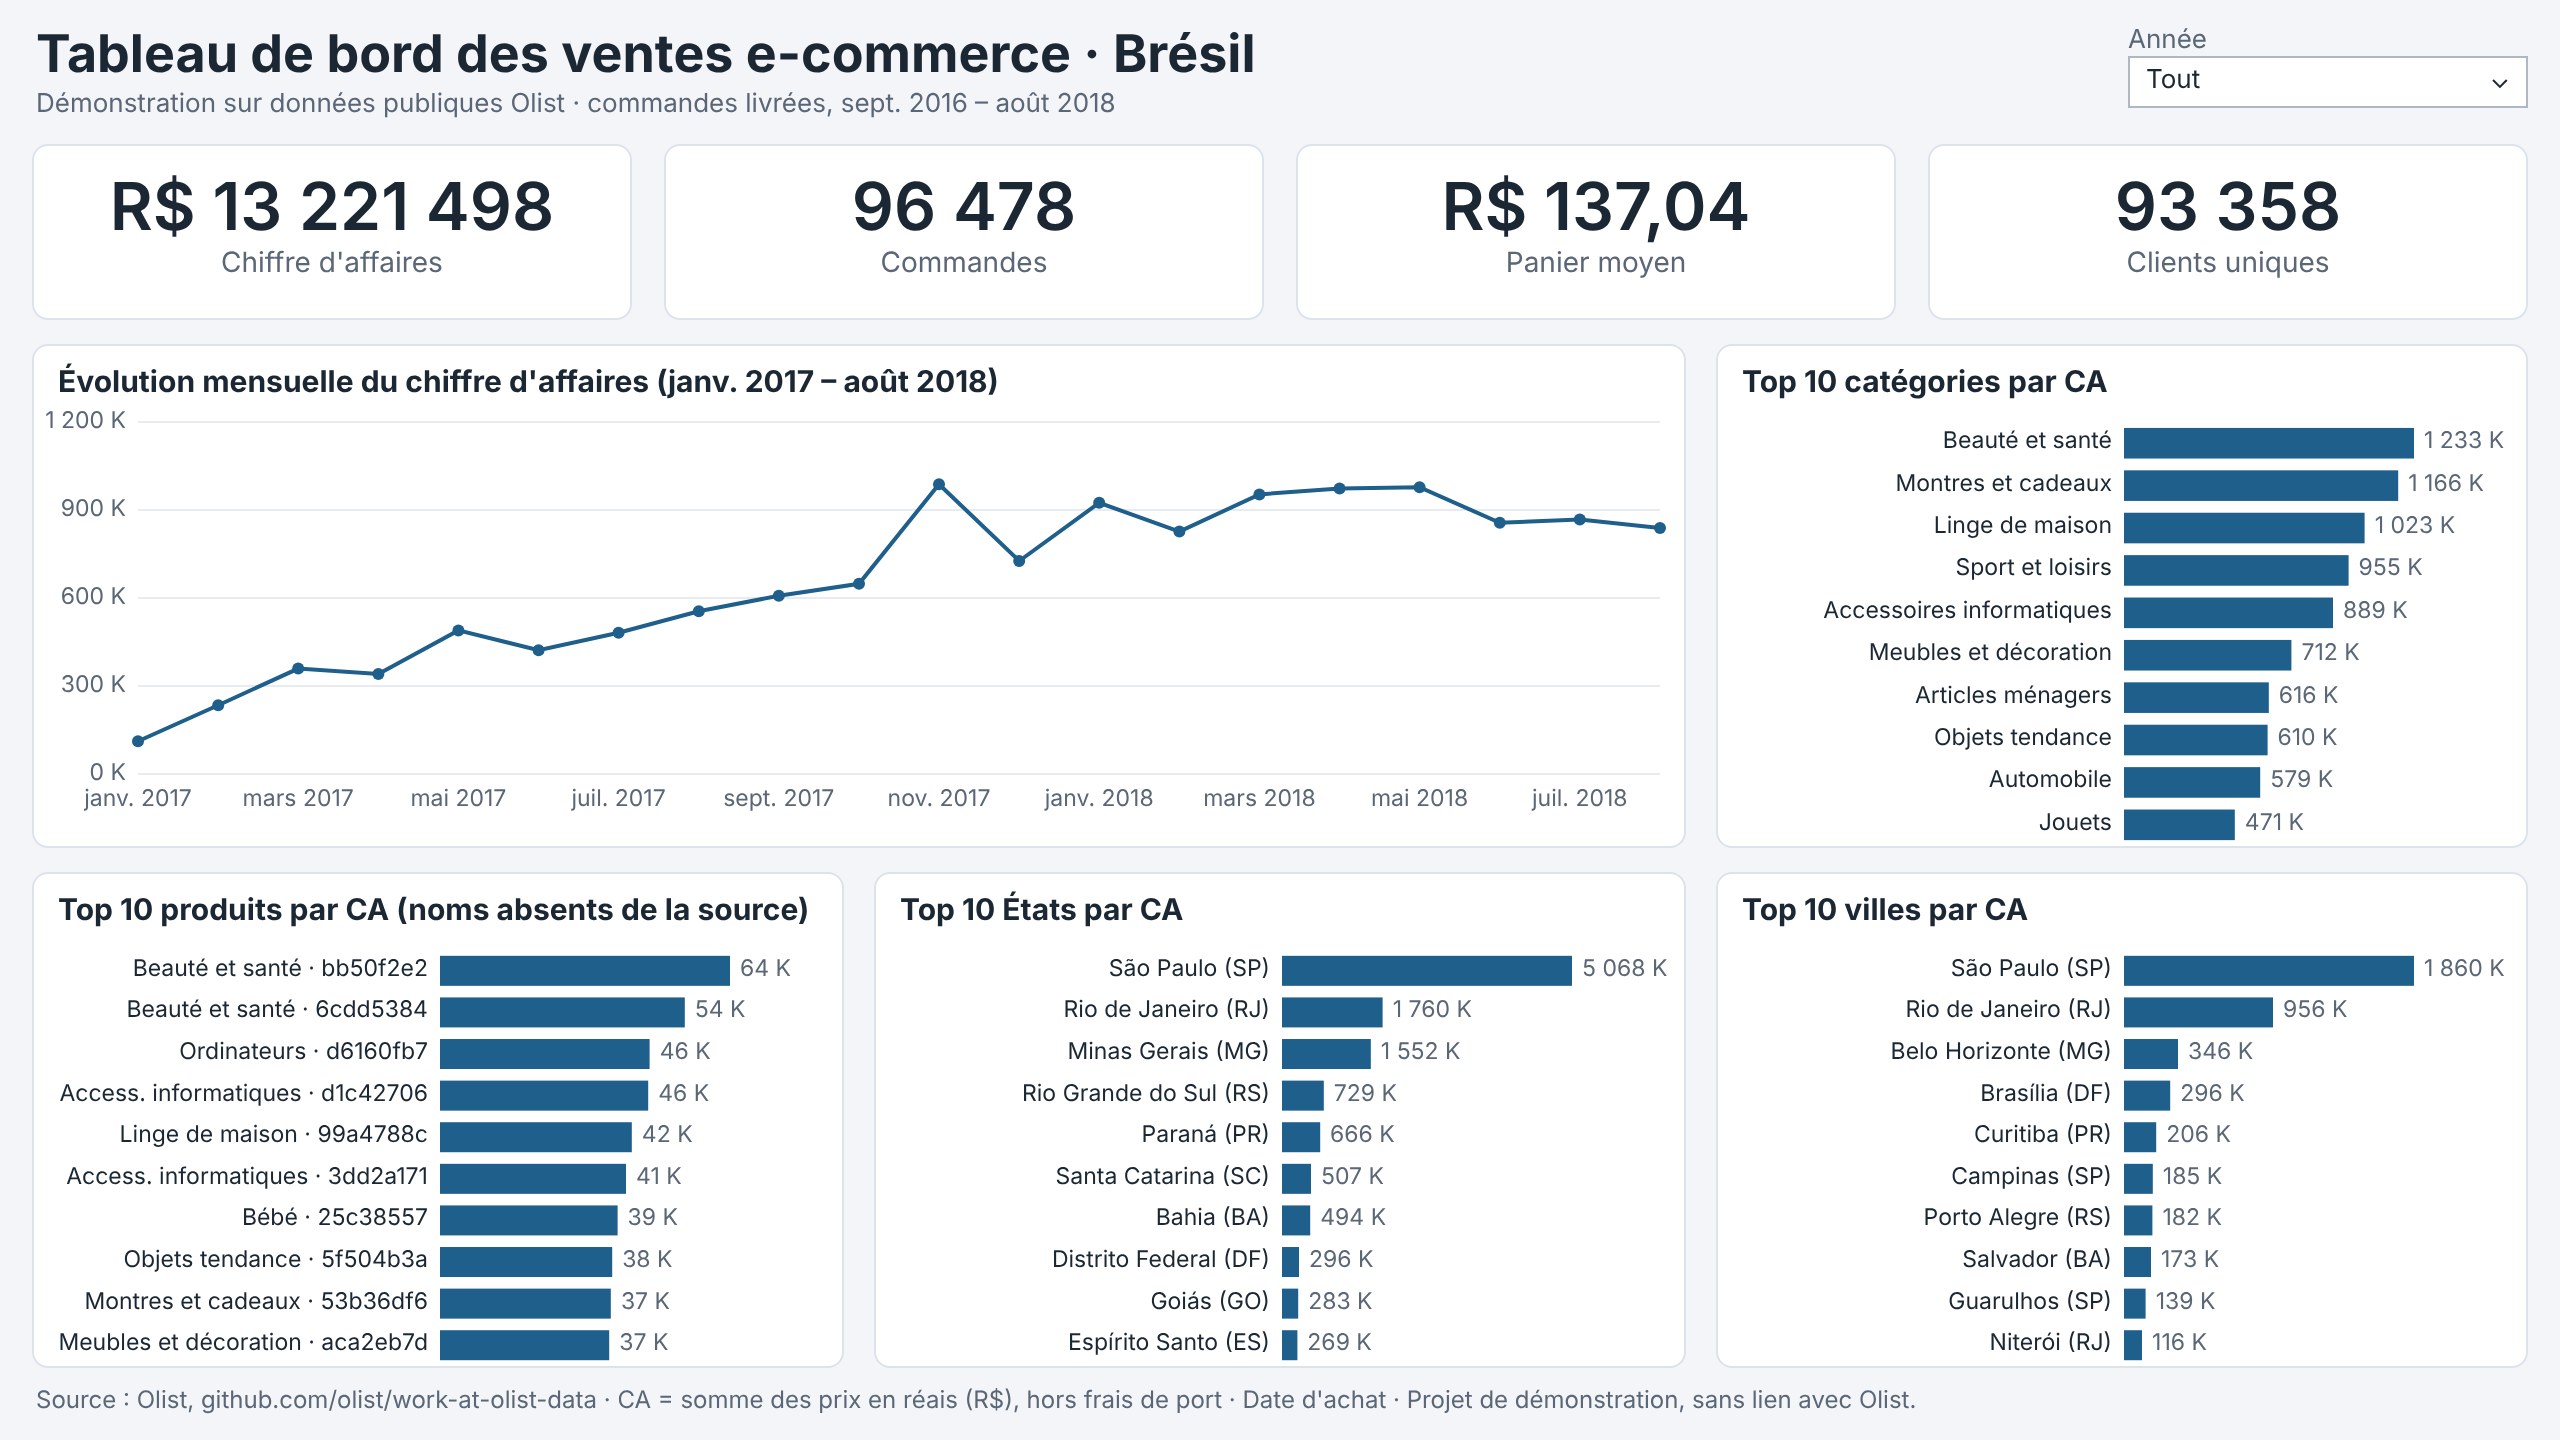

Layout of this report page (visuals, bound fields, positions):
{"tool":"powerbi","page":{"name":"Tableau de bord des ventes","canvas":[1280,784],"ordinal":0},"visuals":[{"type":"textbox","box":[16,6,960,62],"z":100},{"type":"slicer","fields":{"Values":["Dim_Date.annee"]},"box":[1064,14,200,50],"z":200},{"type":"card","fields":{"Values":["Fait_Ventes.Chiffre d'affaires"]},"box":[16,72,300,88],"z":300},{"type":"card","fields":{"Values":["Fait_Ventes.Commandes"]},"box":[332,72,300,88],"z":400},{"type":"card","fields":{"Values":["Fait_Ventes.Panier moyen"]},"box":[648,72,300,88],"z":500},{"type":"card","fields":{"Values":["Fait_Ventes.Clients uniques"]},"box":[964,72,300,88],"z":600},{"type":"lineChart","title":"Évolution mensuelle du chiffre d''affaires (janv. 2017 – août 2018)","fields":{"Category":["Dim_Date.mois_libelle"],"Y":["Fait_Ventes.CA mensuel"]},"box":[16,172,827,284],"z":700},{"type":"barChart","title":"Top 10 catégories par CA","fields":{"Category":["Dim_Produit.categorie_fr"],"Y":["Fait_Ventes.CA Top 10 catégories"]},"box":[858,172,406,284],"z":800},{"type":"barChart","title":"Top 10 produits par CA (noms absents de la source)","fields":{"Category":["Dim_Produit.produit_libelle"],"Y":["Fait_Ventes.CA Top 10 produits"]},"box":[16,468,406,284],"z":900},{"type":"barChart","title":"Top 10 États par CA","fields":{"Category":["Dim_Client.etat_libelle"],"Y":["Fait_Ventes.CA Top 10 États"]},"box":[437,468,406,284],"z":1000},{"type":"barChart","title":"Top 10 villes par CA","fields":{"Category":["Dim_Client.ville_etat"],"Y":["Fait_Ventes.CA Top 10 villes"]},"box":[858,468,406,284],"z":1100},{"type":"textbox","box":[16,752,1248,30],"z":1200}]}

Visuals, with their boxes on the page's 1280x784 design canvas (x1, y1, x2, y2). These are canvas units, not pixel positions in the 2560x1440 screenshot, which may show the page scaled, cropped or inside an application window:
textbox: 16, 6, 976, 68
slicer - Dim_Date.annee: 1064, 14, 1264, 64
card - Fait_Ventes.Chiffre d'affaires: 16, 72, 316, 160
card - Fait_Ventes.Commandes: 332, 72, 632, 160
card - Fait_Ventes.Panier moyen: 648, 72, 948, 160
card - Fait_Ventes.Clients uniques: 964, 72, 1264, 160
"Évolution mensuelle du chiffre d''affaires (janv. 2017 – août 2018)" lineChart: 16, 172, 843, 456
"Top 10 catégories par CA" barChart: 858, 172, 1264, 456
"Top 10 produits par CA (noms absents de la source)" barChart: 16, 468, 422, 752
"Top 10 États par CA" barChart: 437, 468, 843, 752
"Top 10 villes par CA" barChart: 858, 468, 1264, 752
textbox: 16, 752, 1264, 782
